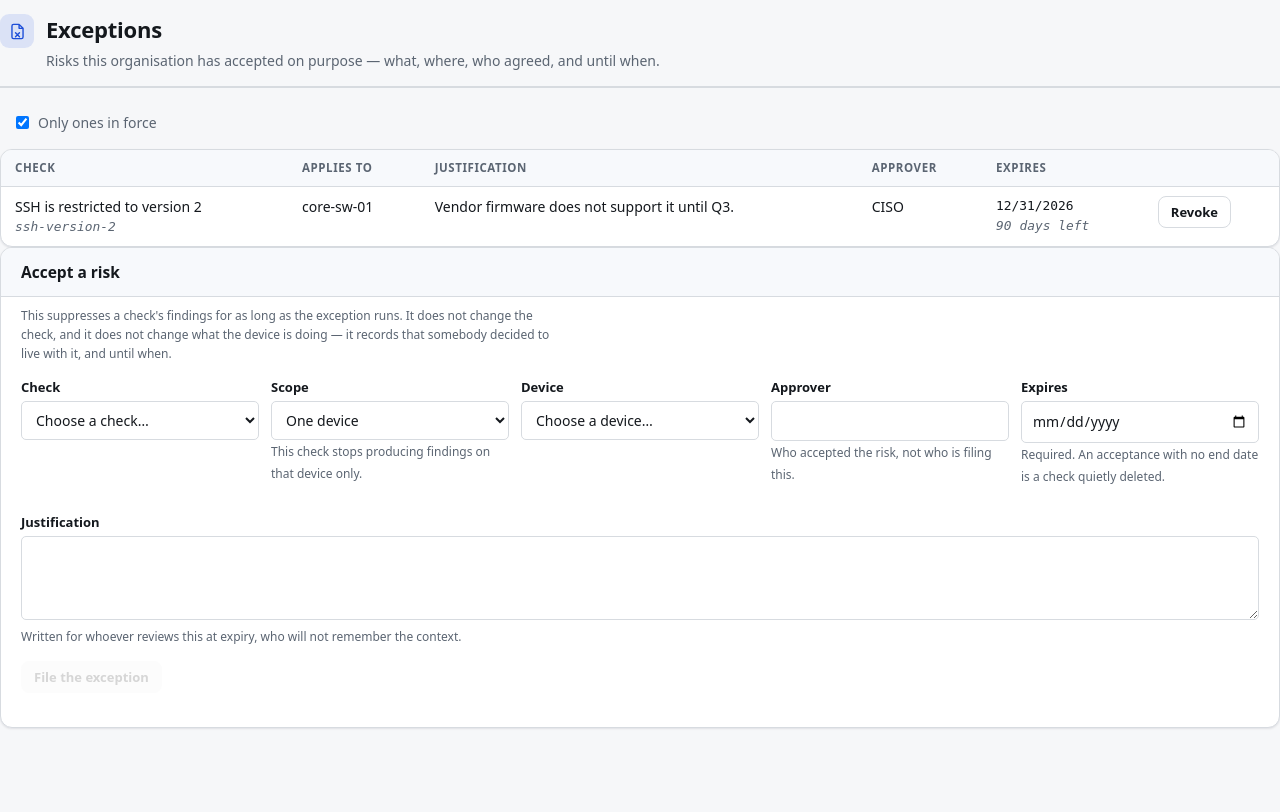
ExceptionsPage › filing one › warns what a global exception costs, and points at the alternative
The width and height of the screenshot is (1280, 812).
Select "The whole estate" in the dropdown labelled "Scope" at [390, 421], box x1=271 y1=401 x2=509 y2=440
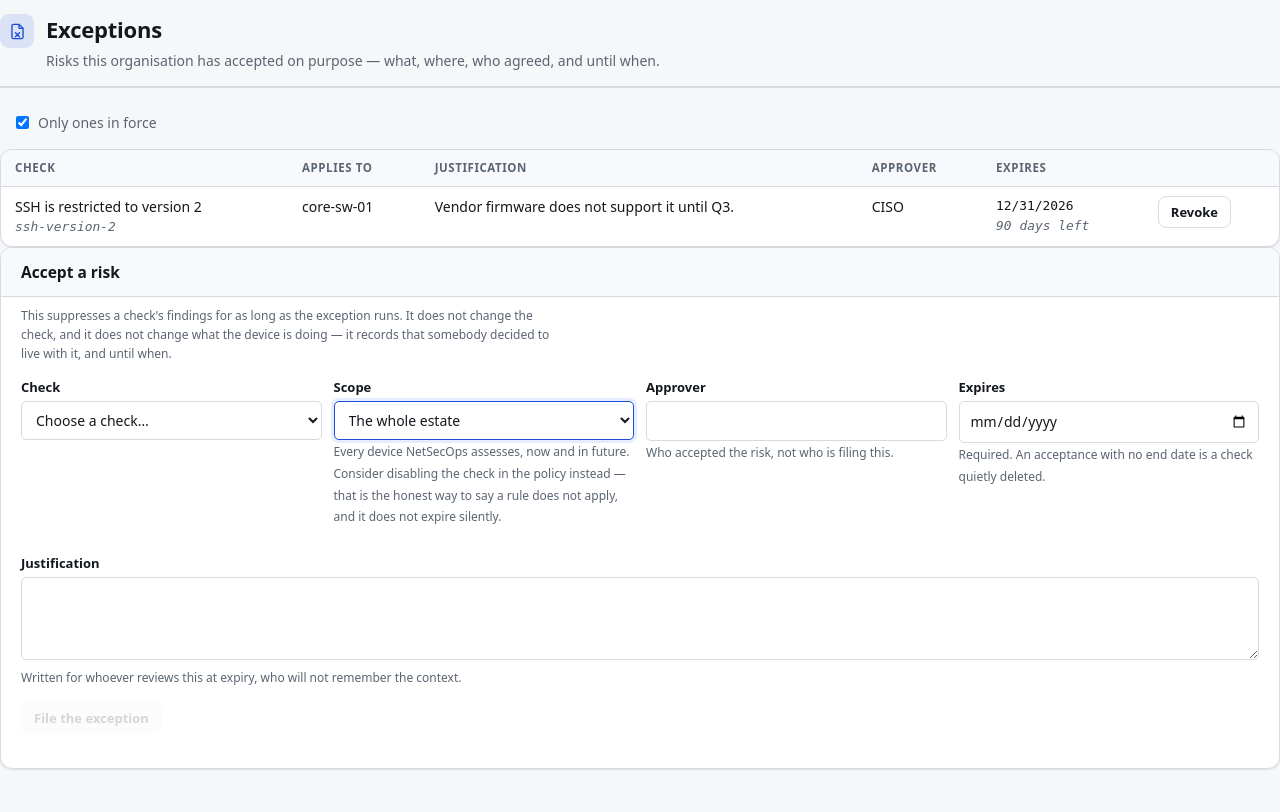
Expected: the text "disabling the check in the policy instead" is shown, x1=334 y1=443 x2=630 y2=525
